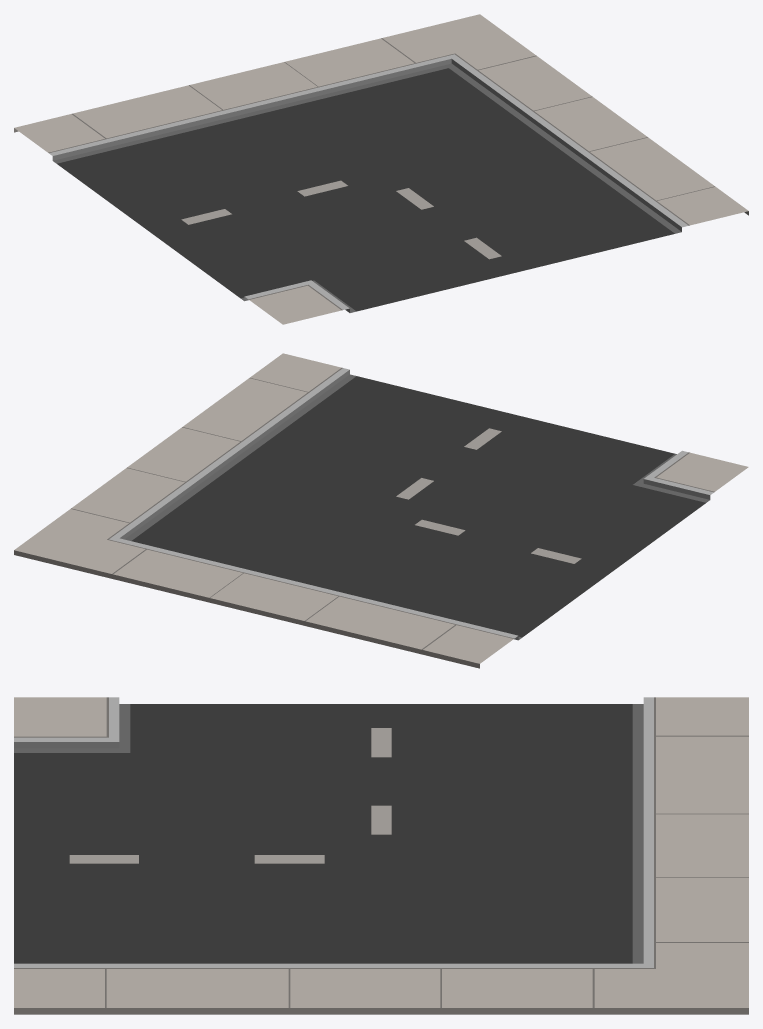
Rendered from SA_Env_Road_CornerLines_01.fbx.
3 views of the same model, one above another, from view 1: azimuth 30°, elevation 25°; view 2: azimuth 150°, elevation 25°; view 3: azimuth 270°, elevation 25° (orthographic). The views are drawn at different scales.
Parts seen in each view (by area): view 1: SA_Env_Road_CornerLines_01; view 2: SA_Env_Road_CornerLines_01; view 3: SA_Env_Road_CornerLines_01.
Part boxes in pixels (box(x1,y1,x2,y2)): SA_Env_Road_CornerLines_01: box(14, 14, 748, 324); SA_Env_Road_CornerLines_01: box(14, 353, 748, 668); SA_Env_Road_CornerLines_01: box(14, 697, 748, 1014).
Size of the model in its own units: 20 by 0.1948 by 20.
Materials: 1 (1 with a texture image).
